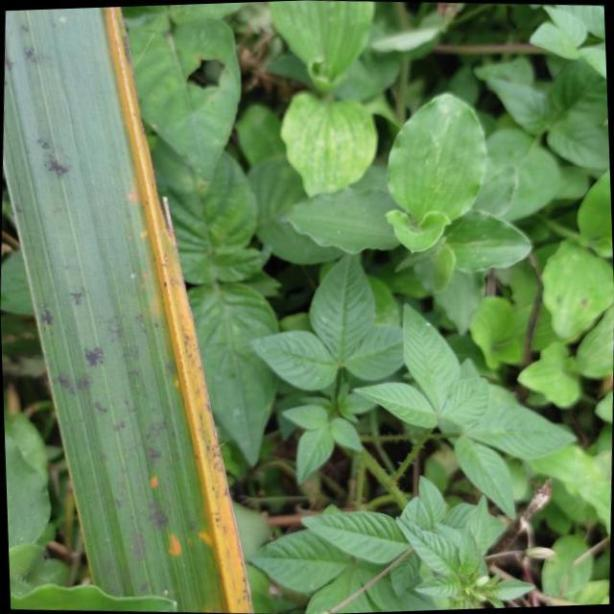Megnesium: (2, 0, 252, 614)
